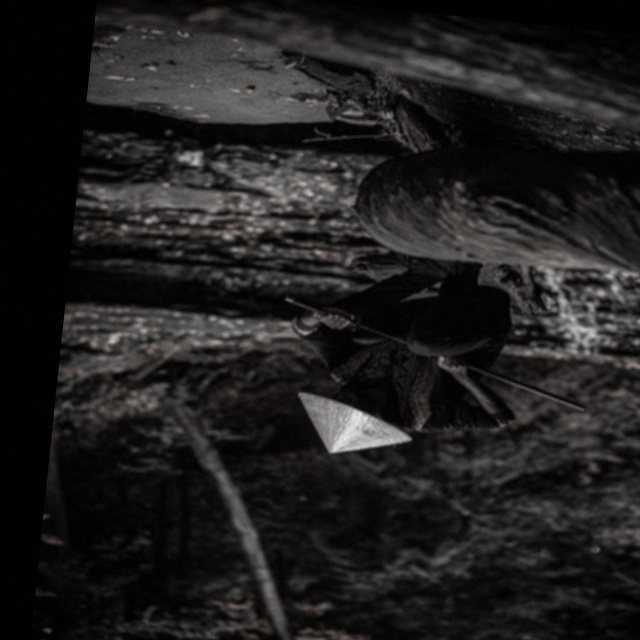Sharp-Object: (266, 285, 600, 415)
